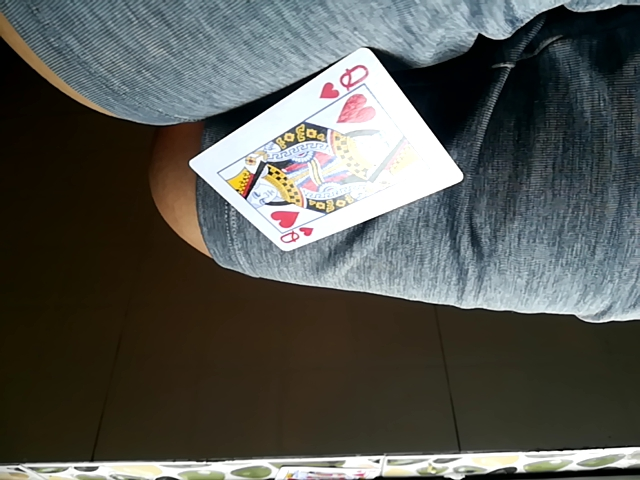hx q: (187, 48, 459, 261)
